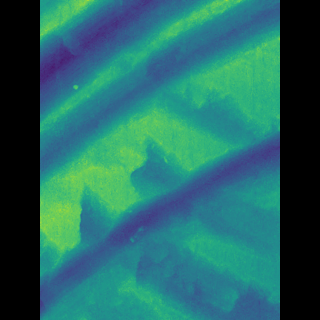Loch: (69, 125, 249, 320), (70, 0, 250, 191)
